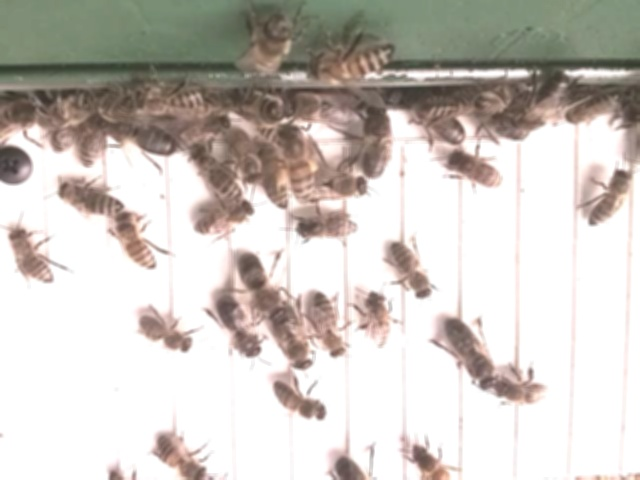Drone: (440, 316, 498, 394), (235, 252, 286, 322), (214, 293, 265, 362), (100, 117, 181, 159), (267, 303, 313, 373), (357, 102, 395, 182)
Worker: (311, 45, 395, 82), (188, 144, 241, 200), (585, 167, 633, 228), (388, 240, 434, 302), (10, 228, 57, 286), (153, 436, 212, 480), (282, 127, 315, 205), (310, 292, 346, 363), (136, 313, 196, 355), (448, 151, 507, 192), (271, 380, 330, 421), (116, 216, 158, 273), (57, 181, 124, 216), (194, 200, 257, 237), (134, 85, 206, 116), (256, 148, 289, 212), (230, 129, 265, 188), (295, 212, 359, 243), (363, 291, 393, 352), (496, 377, 550, 408), (77, 122, 108, 171)
